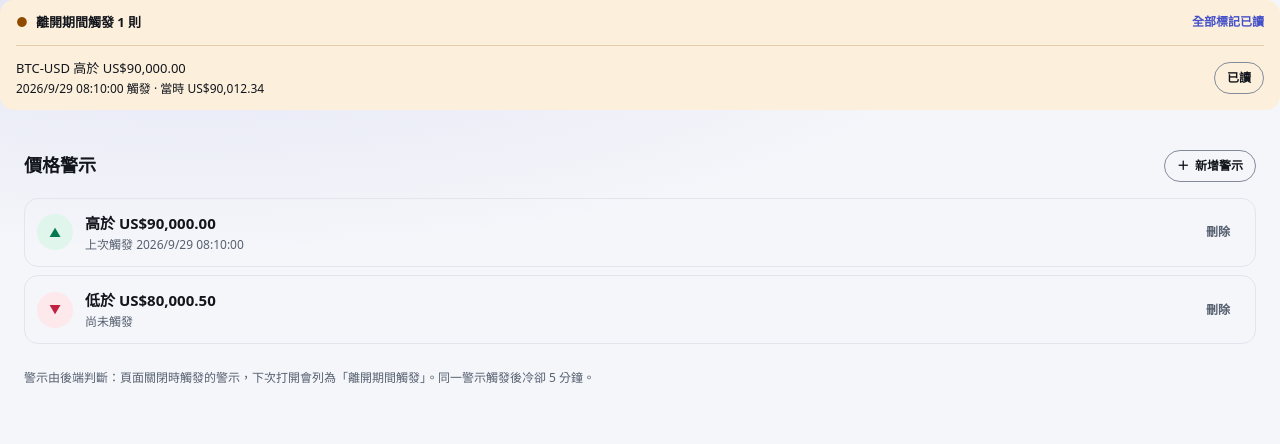
Test case: AlertManager + UnreadAlerts together › deleting an alert that has unread events removes them from the unread list (team lead bug)
Check: the list item with test id "unread-17" is shown, box [16,45,1264,98]
Click the button with aria-label "刪除警示 3" at {"x": 1218, "y": 232}, box [1193,216,1243,248]
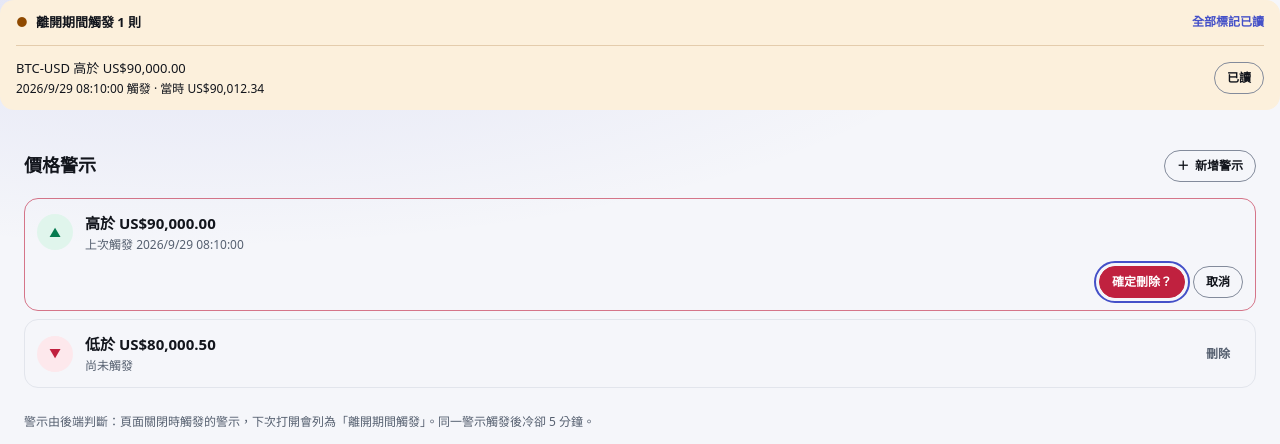
Click the button "確定刪除？" at {"x": 1142, "y": 282}, box [1099,266,1185,298]
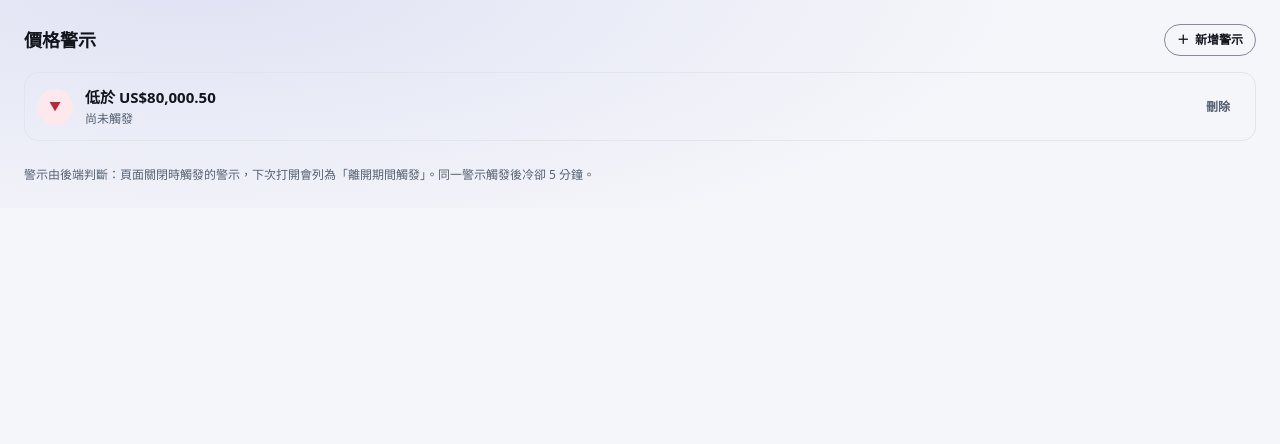
Check: the list item with test id "unread-17" is gone
